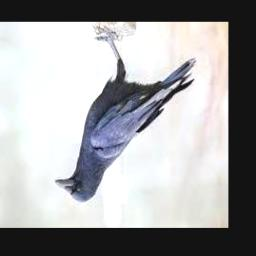Crow: (55, 26, 197, 203)
